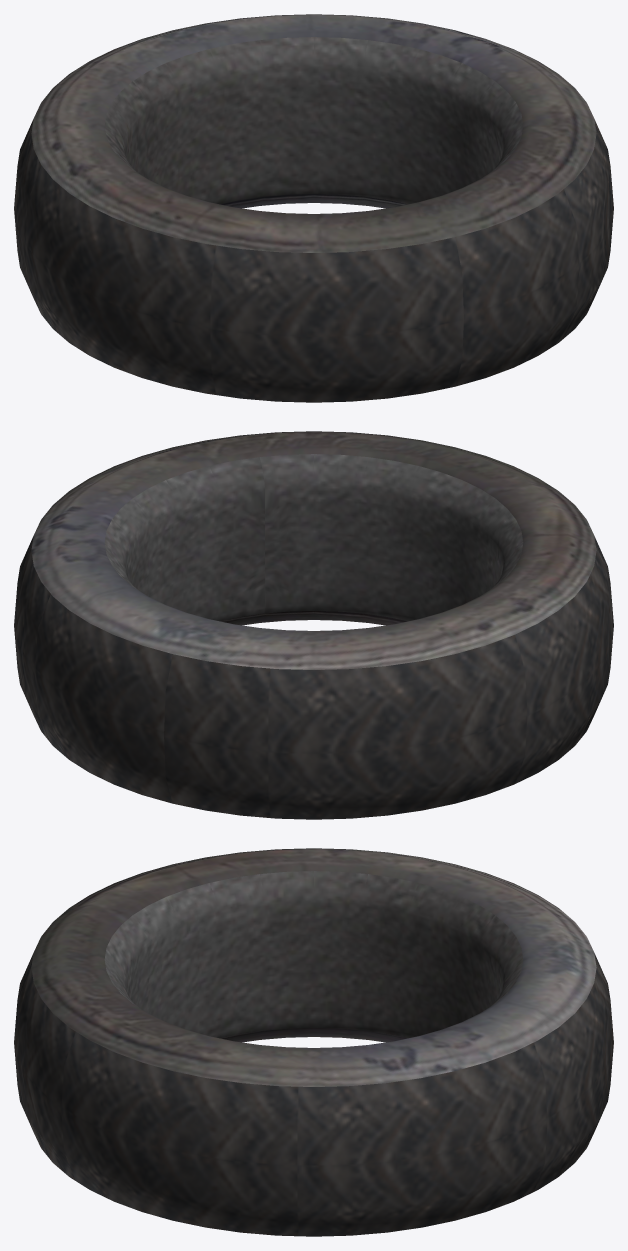
The model's file is sm_wheel_002.fbx.
3 views of the same model, one above another, from view 1: azimuth 30°, elevation 25°; view 2: azimuth 150°, elevation 25°; view 3: azimuth 270°, elevation 25° (orthographic).
Parts seen in each view (by area): view 1: sm_wheel_002; view 2: sm_wheel_002; view 3: sm_wheel_002.
Part boxes in pixels (x1=…): sm_wheel_002: x1=14, y1=14, x2=613, y2=402; sm_wheel_002: x1=14, y1=431, x2=613, y2=819; sm_wheel_002: x1=14, y1=848, x2=613, y2=1236.
Size of the model in its own units: 0.973 by 0.3059 by 0.973.
1 material, 1 textured.
